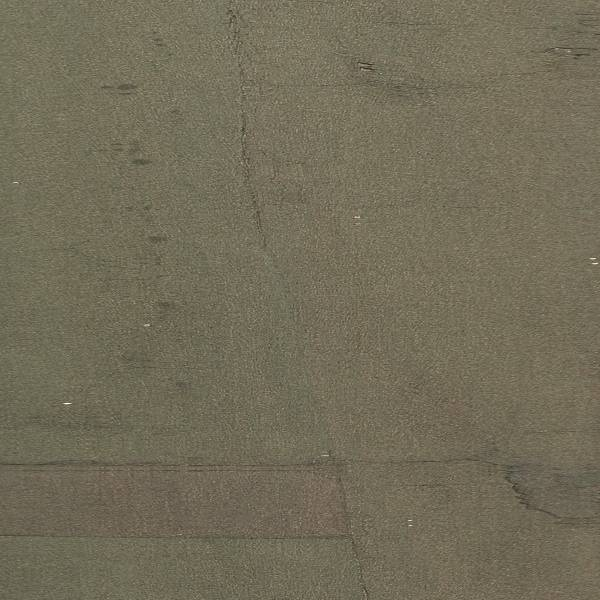road_damage: (1, 449, 362, 556), (217, 7, 280, 266), (491, 447, 574, 533), (352, 56, 431, 105), (544, 40, 600, 64)
